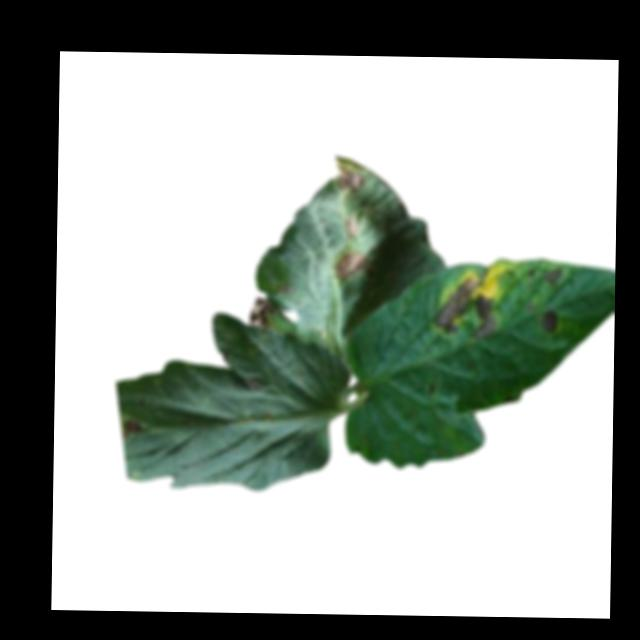Early_blight: (433, 273, 498, 341), (333, 247, 365, 281), (246, 293, 275, 330), (335, 164, 364, 192), (541, 306, 562, 335), (545, 263, 563, 290), (124, 415, 145, 436), (344, 217, 356, 242), (246, 372, 261, 392)
